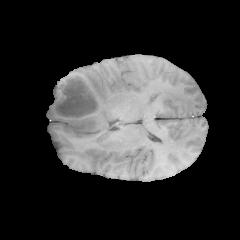glioma: (48, 71, 115, 135)
